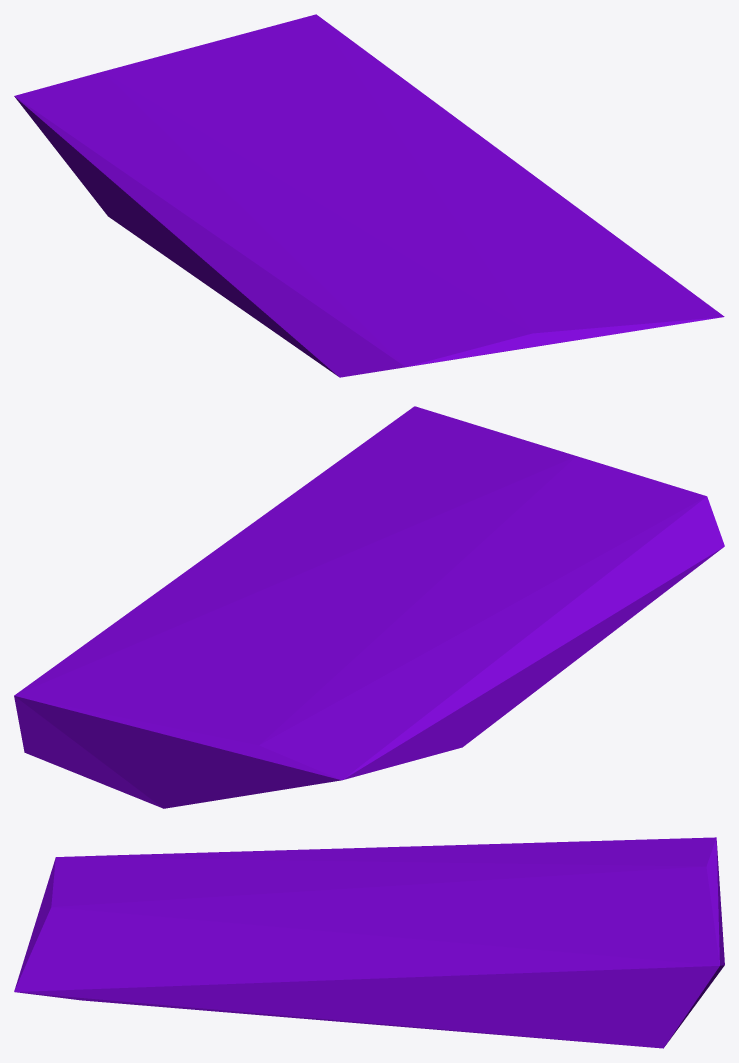
File: torso_convex_piece_028.obj
The picture shows the model from 3 angles, top to bottom: view 1: azimuth 30°, elevation 25°; view 2: azimuth 150°, elevation 25°; view 3: azimuth 270°, elevation 25°; orthographic projection. The views are drawn at different scales.
Bounding box in the file's own units: 0.0826 × 0.0193 × 0.1652.
